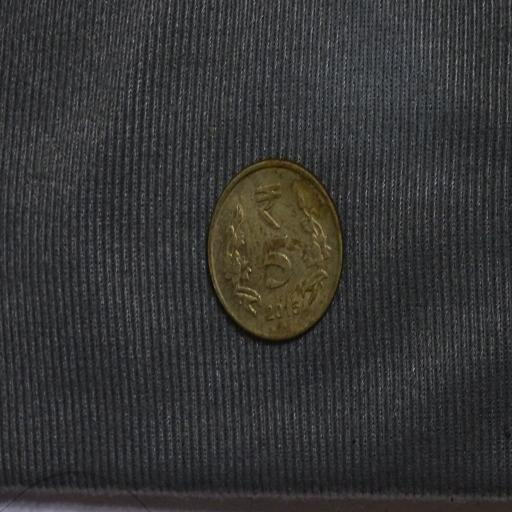rupee5: (206, 158, 345, 343)
